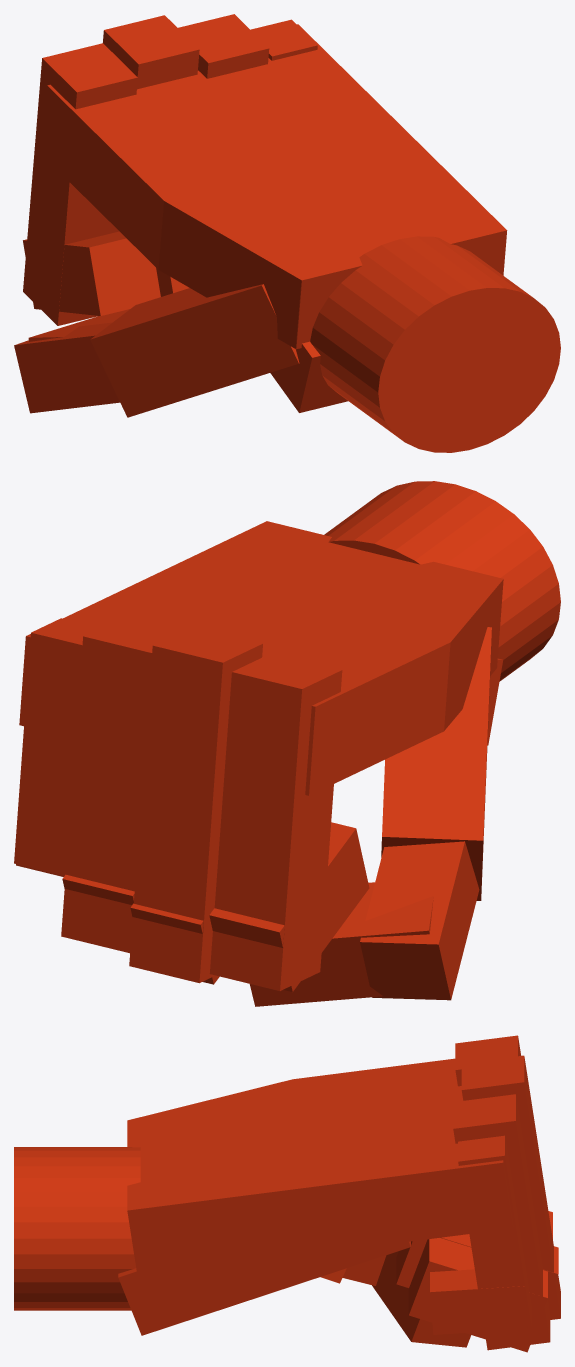
The model's file is 拳（右手・色つき）.fbx.
3 views of the same model, one above another, from view 1: azimuth 30°, elevation 25°; view 2: azimuth 150°, elevation 25°; view 3: azimuth 270°, elevation 25° (orthographic). The views are drawn at different scales.
Visible parts, largest first — view 1: 円柱; view 2: 円柱; view 3: 円柱.
Boxes of the visible parts, left/top/right/bottom form: 円柱: left=14, top=14, right=560, bottom=452; 円柱: left=14, top=481, right=560, bottom=1006; 円柱: left=14, top=1035, right=560, bottom=1352.
Bounding box in the file's own units: 10.54 × 10.13 × 17.29.
